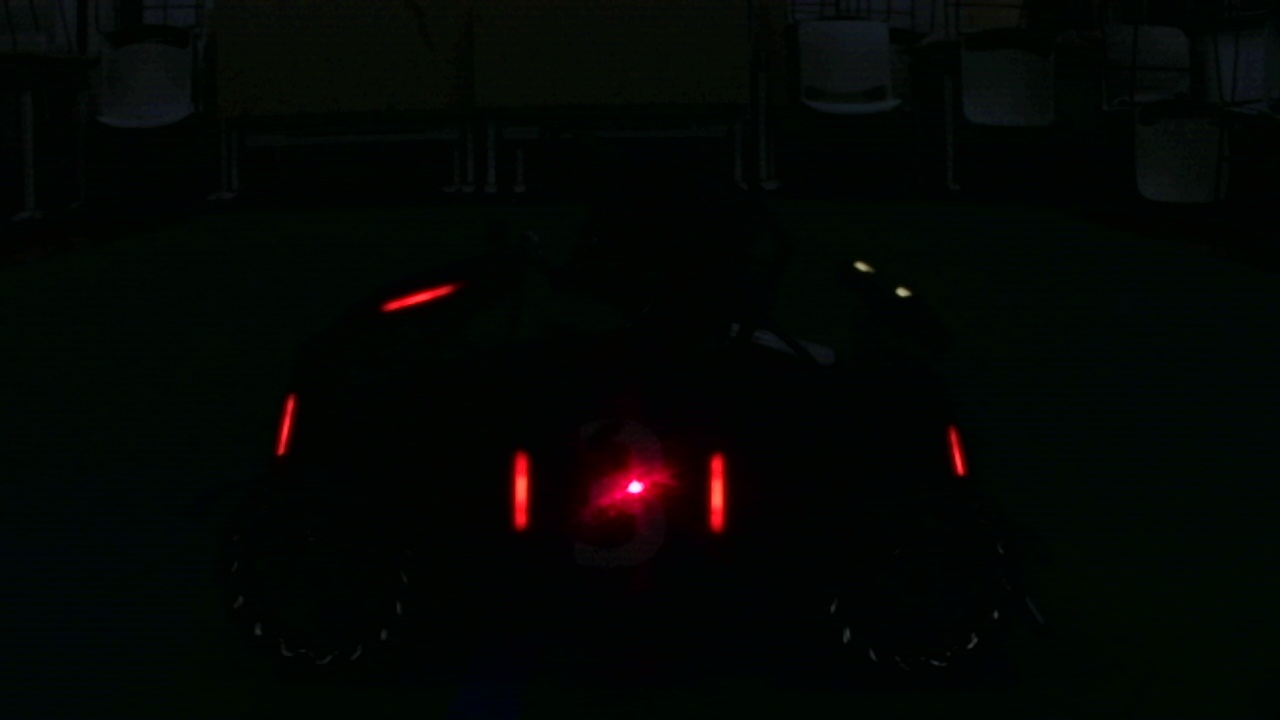lamp: (707, 444, 733, 533), (505, 443, 530, 531), (948, 416, 968, 478), (275, 391, 291, 459)
notpair1: (275, 392, 532, 531), (706, 420, 966, 534)
pair1: (505, 446, 734, 547)
